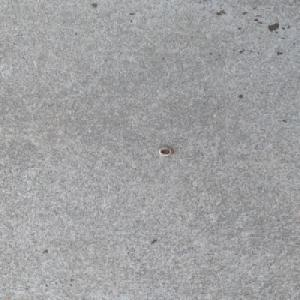Nut: (157, 146, 173, 156)
